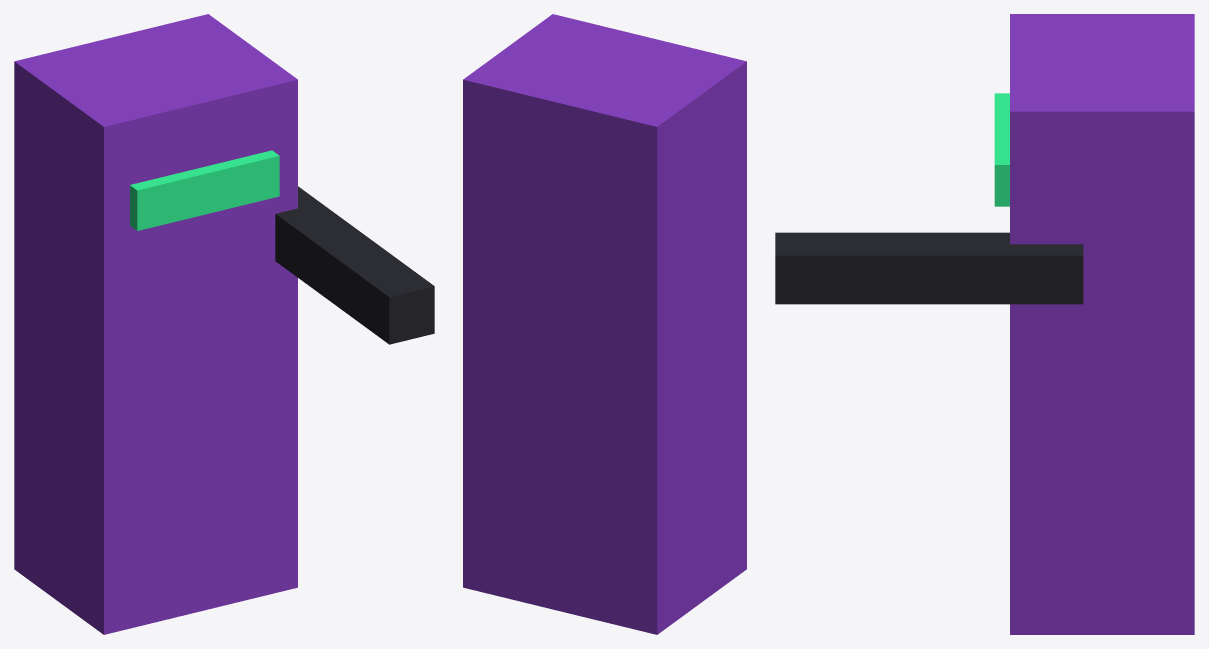
Rendered from slowGunner.obj.
3 renders of one model, left to right at view 1: azimuth 30°, elevation 25°; view 2: azimuth 150°, elevation 25°; view 3: azimuth 270°, elevation 25°, orthographic. The views are drawn at different scales.
Size of the model in its own units: 0.67 by 1.5 by 1.09.
